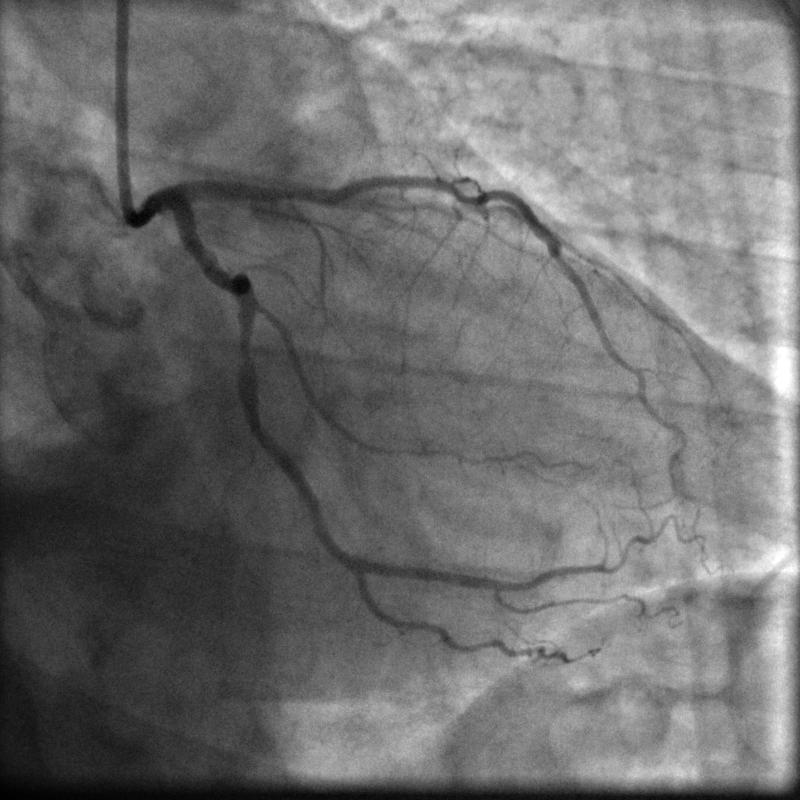Stenosis: (238, 334, 253, 365)
